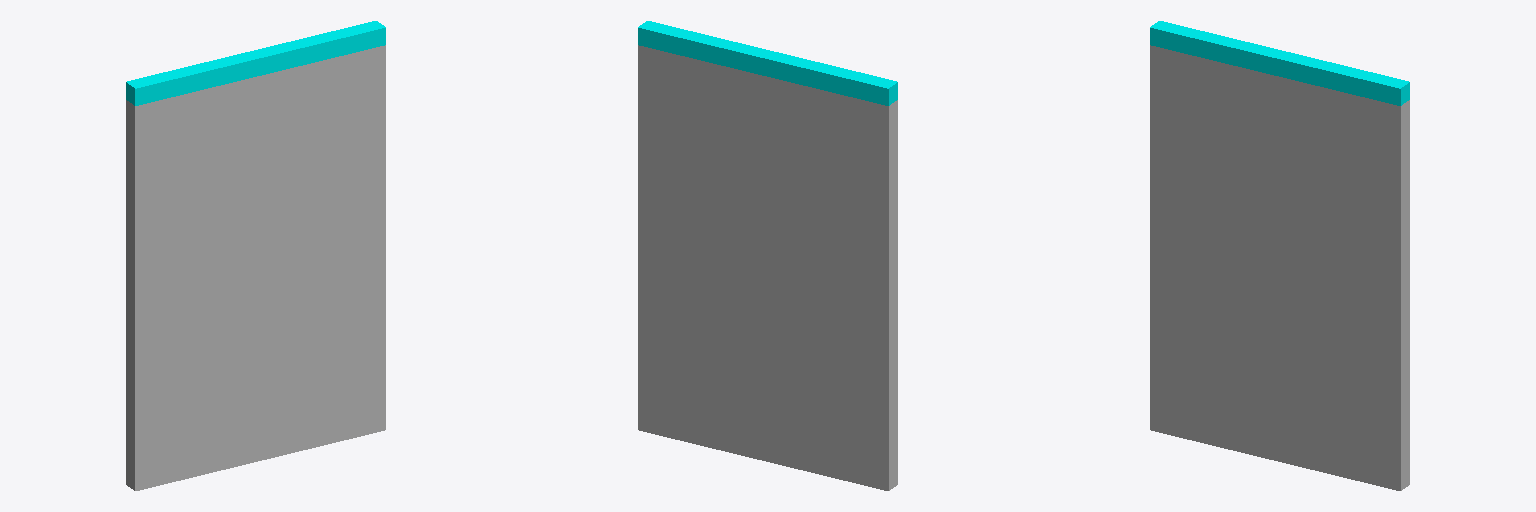
URDF robot description (spatula-base.urdf):
<?xml version="0.0" ?>
<robot name="spatula-base.urdf">
  <material name="DarkGrey">
    <color rgba="0.2 0.2 0.2 0.0"/>
  </material>
  <material name="LightGrey">
    <color rgba="0.8 0.8 0.8 0.0"/>
  </material>
  <material name="Blue">
    <color rgba="0.0 1.0 1.0 1.0"/>
  </material>

  <link name="baseLink">
    <contact>
      <lateral_friction value="1.0"/>
      <rolling_friction value="0.0001"/>
      <inertia_scaling value="3.0"/>
    </contact>
    <inertial>
      <origin rpy="0 0 0" xyz="0 0 0"/>
       <mass value=".1"/>
       <inertia ixx="1" ixy="0" ixz="0" iyy="1" iyz="0" izz="1"/>
    </inertial>
    <visual>
      <origin rpy="0 0 0" xyz="0 0 0"/>
      <geometry>
        <mesh filename="suction/base.obj" scale="0.001 0.001 0.001"/>
      </geometry>
      <material name="DarkGrey"/>
    </visual>
    <visual>
      <origin rpy="0 0 0" xyz="0 0 0.075"/>
      <geometry>
        <box size="0.075 0.005 0.11"/>
      </geometry>
      <material name="LightGrey"/>
    </visual>
    <collision>
      <origin rpy="0 0 0" xyz="0 0 0.075"/>
      <geometry>
        <box size="0.075 0.005 0.11"/>
      </geometry>
    </collision>
  </link>

  <link name="midLink">
    <contact>
      <lateral_friction value="1.0"/>
      <rolling_friction value="0.0001"/>
      <inertia_scaling value="3.0"/>
    </contact>
    <inertial>
      <origin rpy="0 0 0" xyz="0 0 0"/>
       <mass value=".1"/>
       <inertia ixx="1" ixy="0" ixz="0" iyy="1" iyz="0" izz="1"/>
    </inertial>
    <visual>
      <origin rpy="0 0 0" xyz="0 0 0.1075"/>
      <geometry>
        <box size="0.075 0.005 0.005"/>
      </geometry>
      <material name="Blue"/>
    </visual>
    <collision>
      <origin rpy="0 0 0" xyz="0 0 0.1075"/>
      <geometry>
        <box size="0.075 0.005 0.005"/>
      </geometry>
    </collision>
  </link>
  <joint name="baseLink-midLink" type="fixed">
    <origin rpy="0 0 0" xyz="0 0 0.025"/>
    <parent link="baseLink"/>
    <child link="midLink"/>
  </joint>


</robot>

--- What the picture shows (computed from the rendered views, not written in the file) ---
The picture shows the robot from 3 angles, left to right: view 1: azimuth 30°, elevation 25°; view 2: azimuth 150°, elevation 25°; view 3: azimuth 330°, elevation 25°; orthographic projection.
Model spatula-base.urdf with 2 links and 1 joints (1 fixed), rooted at baseLink, posed all joints at 0.
Visible links, largest first — view 1: baseLink, midLink; view 2: baseLink, midLink; view 3: baseLink, midLink.
Boxes of the visible links, x1,y1,x2,y2 form: baseLink: (126,45,385,490); midLink: (126,21,385,105); baseLink: (638,45,897,490); midLink: (638,21,897,105); baseLink: (1150,45,1409,490); midLink: (1150,21,1409,105).
Size in the robot's own frame: 0.075 by 0.005 by 0.115 metres.
Meshes: 1 distinct files referenced, 0 mesh visuals loaded (none loaded); not drawn: 1 (reference not matched to a file when rendering).